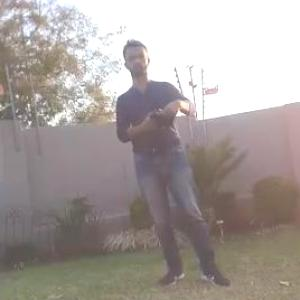follow: (112, 34, 235, 290)
